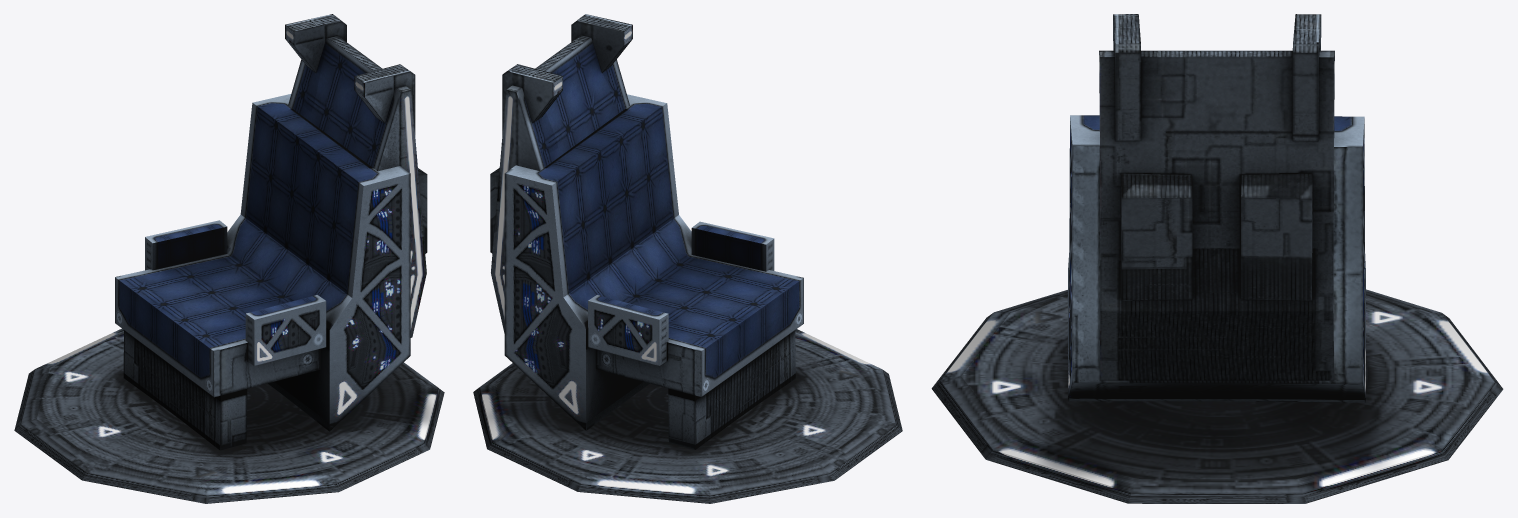
File: SpaceStation_D_Seat.fbx
3 renders of one model, left to right at view 1: azimuth 30°, elevation 25°; view 2: azimuth 150°, elevation 25°; view 3: azimuth 270°, elevation 25°, orthographic. The views are drawn at different scales.
Visible parts, largest first — view 1: SpaceStation_D_Seat; view 2: SpaceStation_D_Seat; view 3: SpaceStation_D_Seat.
Part boxes in pixels (bbox=[...]): SpaceStation_D_Seat: bbox=[14, 14, 444, 503]; SpaceStation_D_Seat: bbox=[473, 14, 902, 503]; SpaceStation_D_Seat: bbox=[931, 14, 1503, 503].
Bounding box in the file's own units: 19096 × 16839 × 20065.
